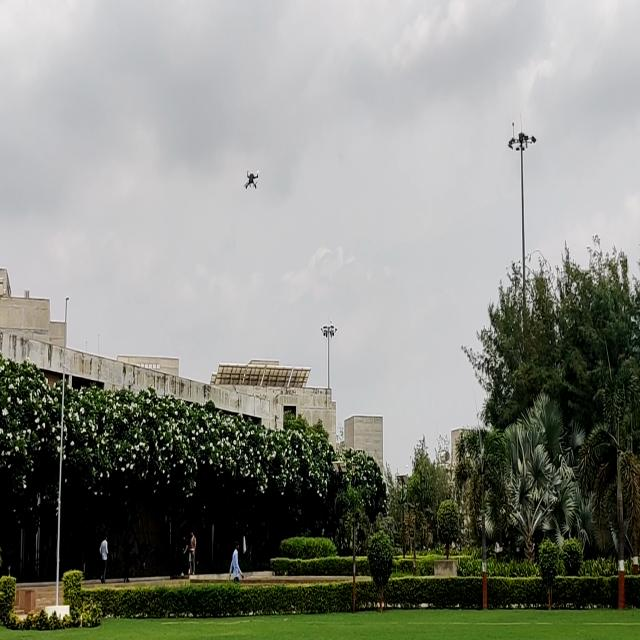drone: (240, 162, 266, 202)
